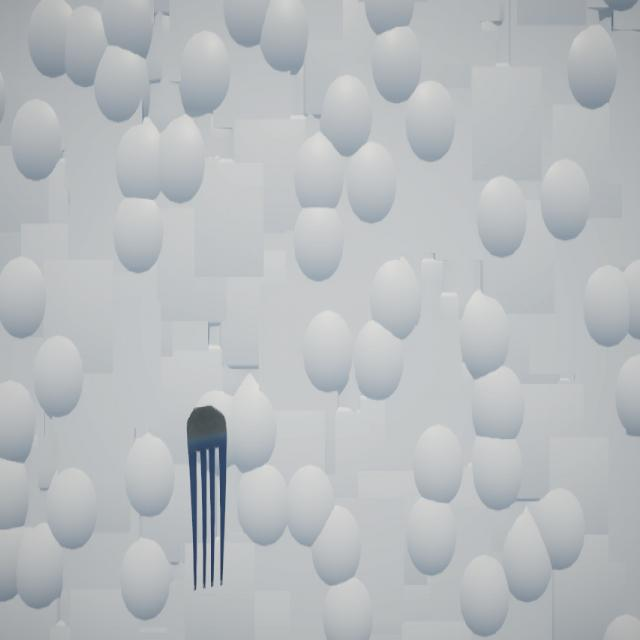top_folk: (187, 406, 228, 592)
